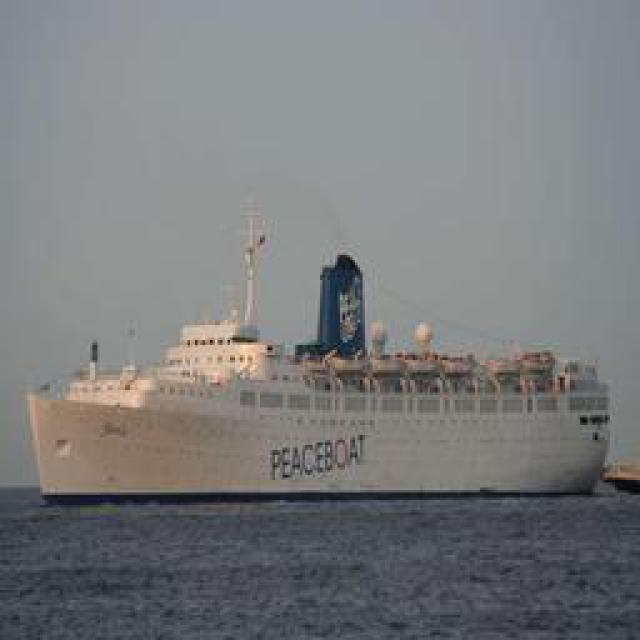Ship: (12, 244, 612, 504)
